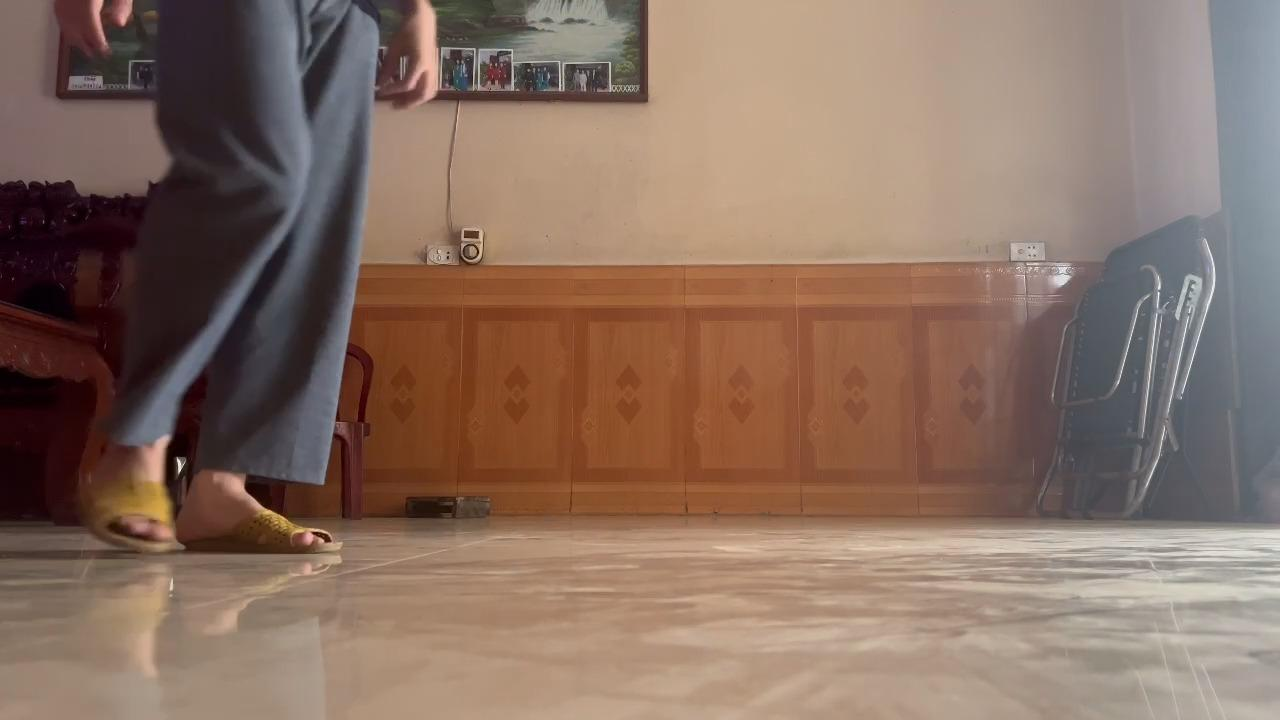no-boot: (178, 482, 356, 572), (72, 462, 180, 560)
